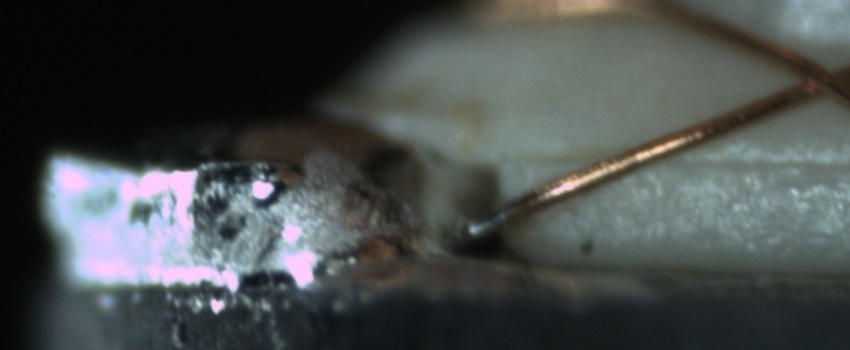CL: (773, 47, 849, 107)
DL: (520, 129, 850, 190)
TS: (459, 204, 511, 242)
